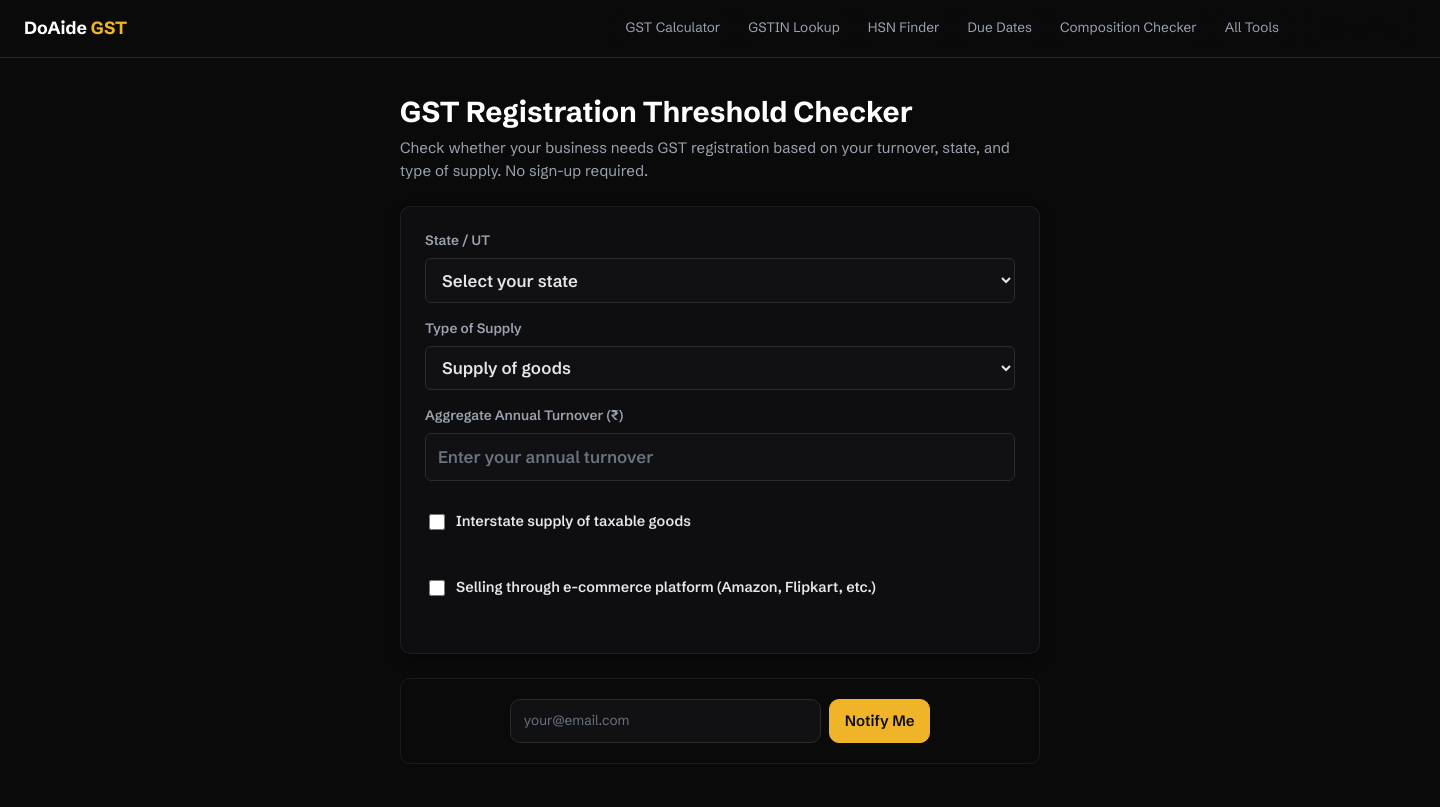
TurnoverLimitPage › shows required when interstate checkbox is checked
The width and height of the screenshot is (1440, 807).
Step 1. Select "Maharashtra" in the dropdown labelled "State / UT" → point(720, 280), box [425,258,1015,303]
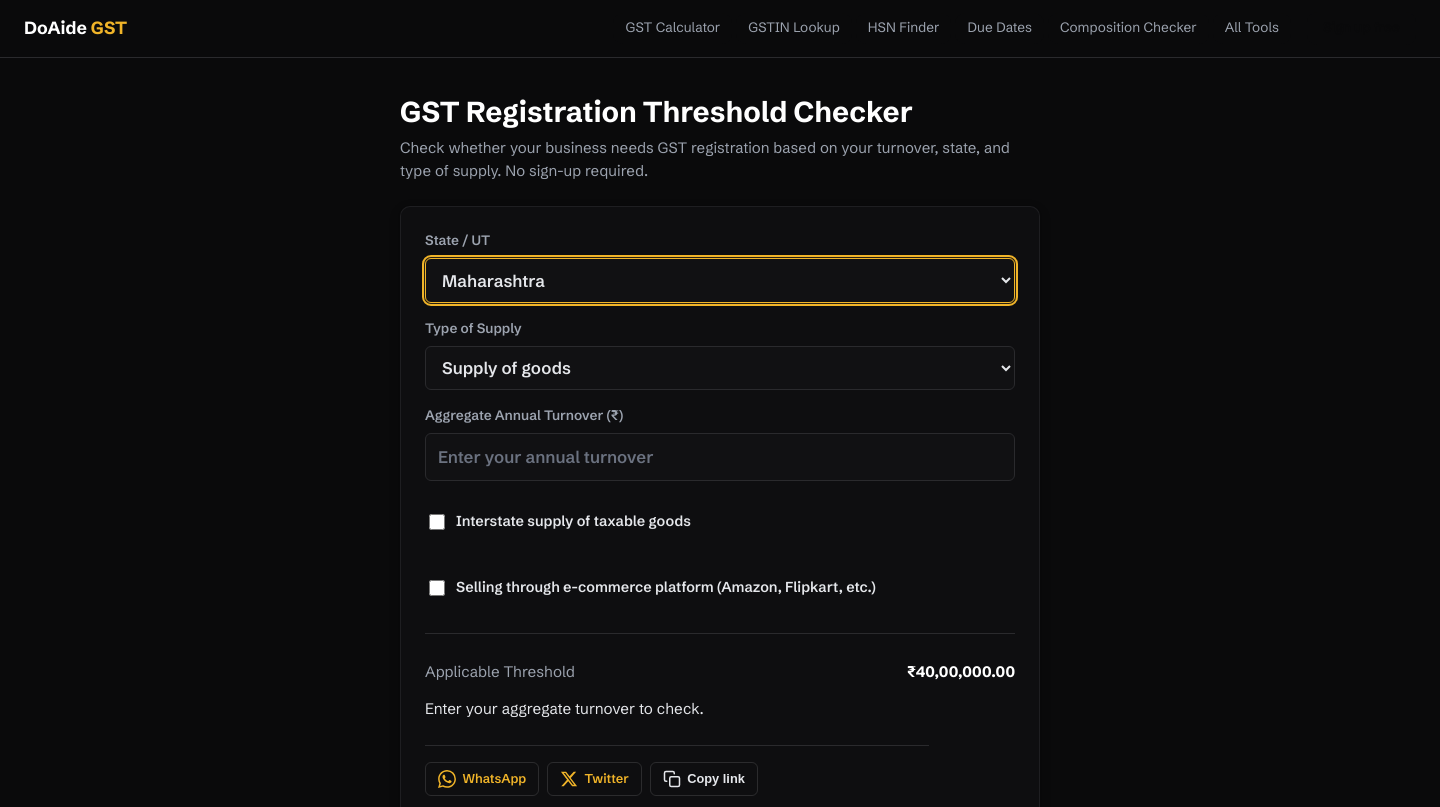
Step 2. Click the checkbox labelled "Interstate supply of taxable goods" → point(437, 522), box [429,500,445,544]
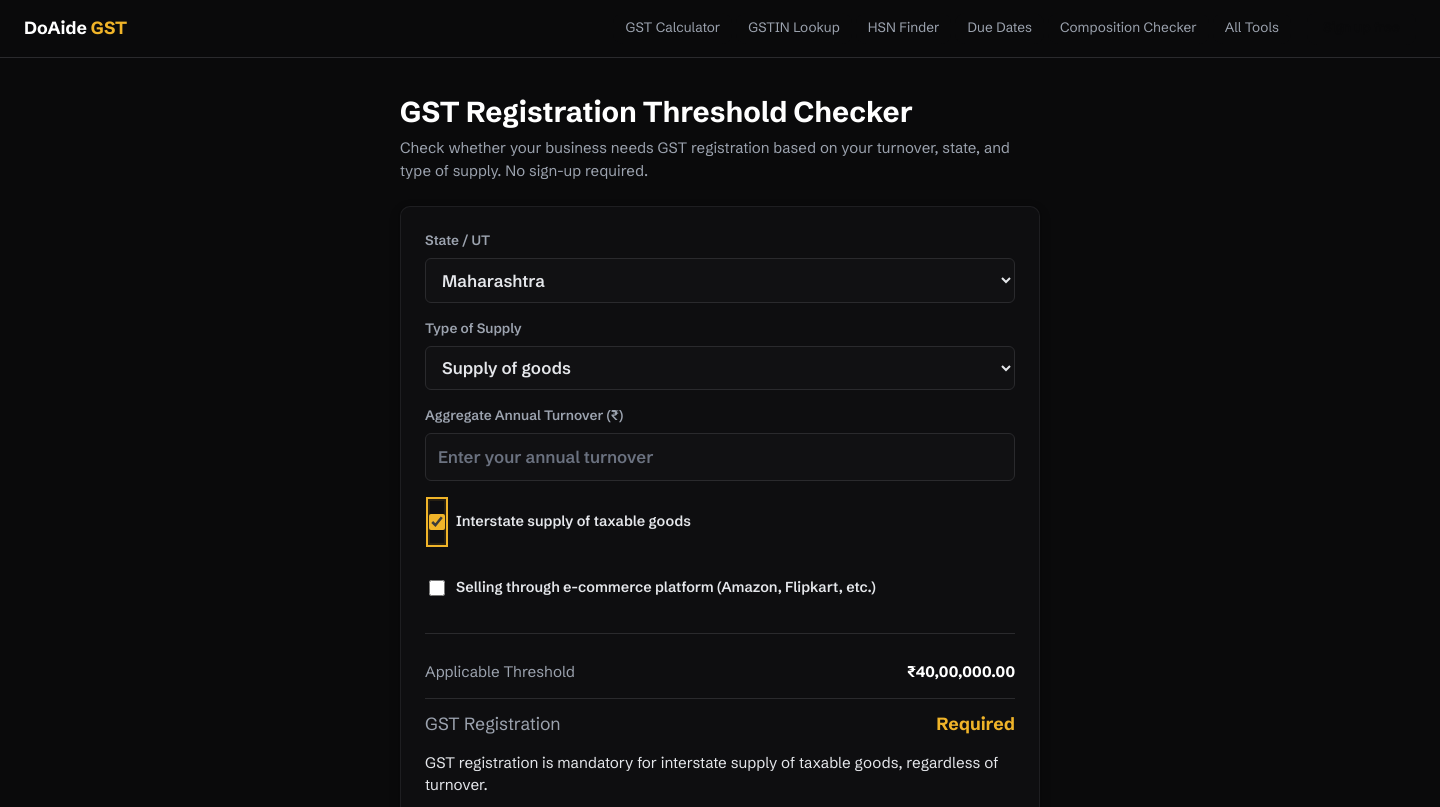
expect the text "Required" is shown: met, box [936,711,1015,737]
